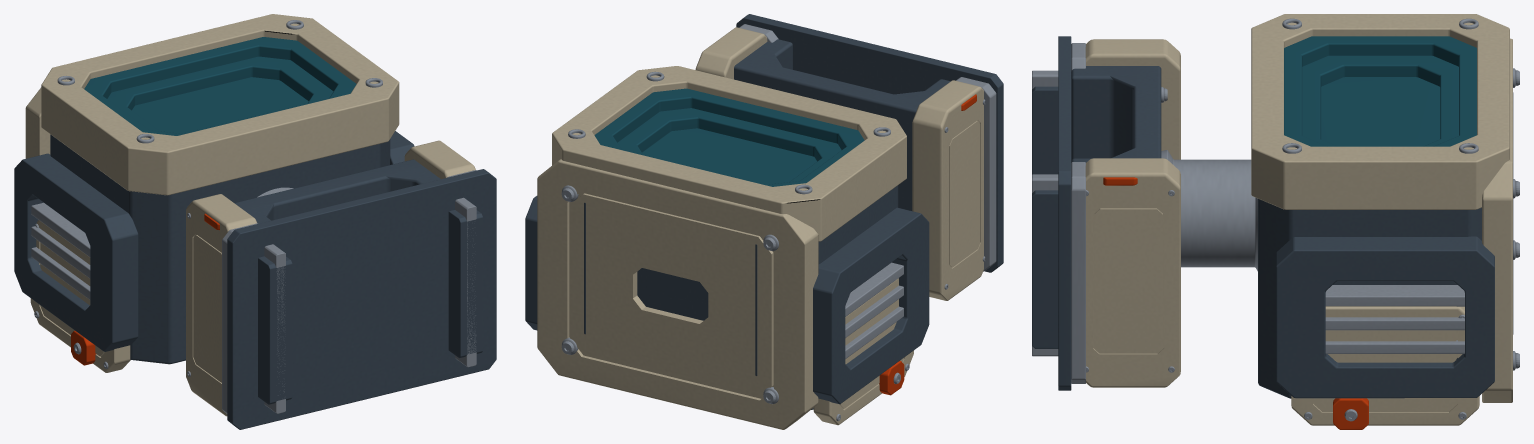
The model's file is ObjectStateSensor.fbx.
3 views of the same model, side by side, from view 1: azimuth 30°, elevation 25°; view 2: azimuth 150°, elevation 25°; view 3: azimuth 270°, elevation 25° (orthographic). The views are drawn at different scales.
Visible parts, largest first — view 1: adapter_WheeledCarrier_top, front_armour_bezel, sensor_shell, side_cooling_frame_-1, mount_shell_end, optical_recess_outer, detection_window, mount_base_arch, adapter_WheeledCarrier_clamp.001, adapter_WheeledCarrier_clamp, optical_recess_inner, side_service_cover (+10 smaller); view 2: armour_roof, front_armour_bezel, side_cooling_frame_-1, mount_shell_end, adapter_WheeledCarrier_top, mount_base_arch, optical_recess_outer, detection_window, optical_recess_inner, sensor_shell, side_service_cover, mount_foot (+6 smaller); view 3: front_armour_bezel, side_cooling_frame_1, mount_shell_end.001, sensor_shell, mount_base_arch, fixed_neck, side_service_cover.001, detection_window, optical_recess_outer, optical_recess_inner, armour_roof, adapter_WheeledCarrier_top (+10 smaller).
Boxes of the visible parts, x1=… form: adapter_WheeledCarrier_top: x1=227, y1=169, x2=496, y2=429; front_armour_bezel: x1=41, y1=14, x2=399, y2=195; sensor_shell: x1=50, y1=134, x2=390, y2=363; side_cooling_frame_-1: x1=14, y1=153, x2=138, y2=351; mount_shell_end: x1=186, y1=194, x2=256, y2=416; optical_recess_outer: x1=84, y1=37, x2=356, y2=135; detection_window: x1=132, y1=77, x2=308, y2=133; mount_base_arch: x1=234, y1=159, x2=440, y2=223; adapter_WheeledCarrier_clamp.001: x1=448, y1=210, x2=482, y2=358; adapter_WheeledCarrier_clamp: x1=258, y1=256, x2=292, y2=404; optical_recess_inner: x1=107, y1=56, x2=333, y2=131; side_service_cover: x1=30, y1=220, x2=130, y2=372; armour_roof: x1=537, y1=159, x2=818, y2=429; front_armour_bezel: x1=552, y1=66, x2=906, y2=241; side_cooling_frame_-1: x1=813, y1=207, x2=929, y2=404; mount_shell_end: x1=912, y1=80, x2=983, y2=300; adapter_WheeledCarrier_top: x1=736, y1=14, x2=1003, y2=272; mount_base_arch: x1=734, y1=39, x2=950, y2=210; optical_recess_outer: x1=594, y1=88, x2=864, y2=186; detection_window: x1=642, y1=128, x2=816, y2=184; optical_recess_inner: x1=617, y1=108, x2=841, y2=182; sensor_shell: x1=637, y1=185, x2=898, y2=409; side_service_cover: x1=813, y1=278, x2=913, y2=425; mount_foot: x1=956, y1=77, x2=996, y2=271; front_armour_bezel: x1=1251, y1=14, x2=1509, y2=209; side_cooling_frame_1: x1=1276, y1=236, x2=1494, y2=398; mount_shell_end.001: x1=1085, y1=158, x2=1180, y2=387; sensor_shell: x1=1258, y1=198, x2=1481, y2=398; mount_base_arch: x1=1071, y1=66, x2=1161, y2=162; fixed_neck: x1=1161, y1=150, x2=1257, y2=271; side_service_cover.001: x1=1291, y1=306, x2=1479, y2=425; detection_window: x1=1321, y1=77, x2=1440, y2=146; optical_recess_outer: x1=1284, y1=36, x2=1476, y2=146; optical_recess_inner: x1=1302, y1=55, x2=1458, y2=146; armour_roof: x1=1482, y1=38, x2=1512, y2=402; adapter_WheeledCarrier_top: x1=1058, y1=36, x2=1071, y2=390.
Size of the model in its own units: 24.76 by 17.75 by 29.82.
